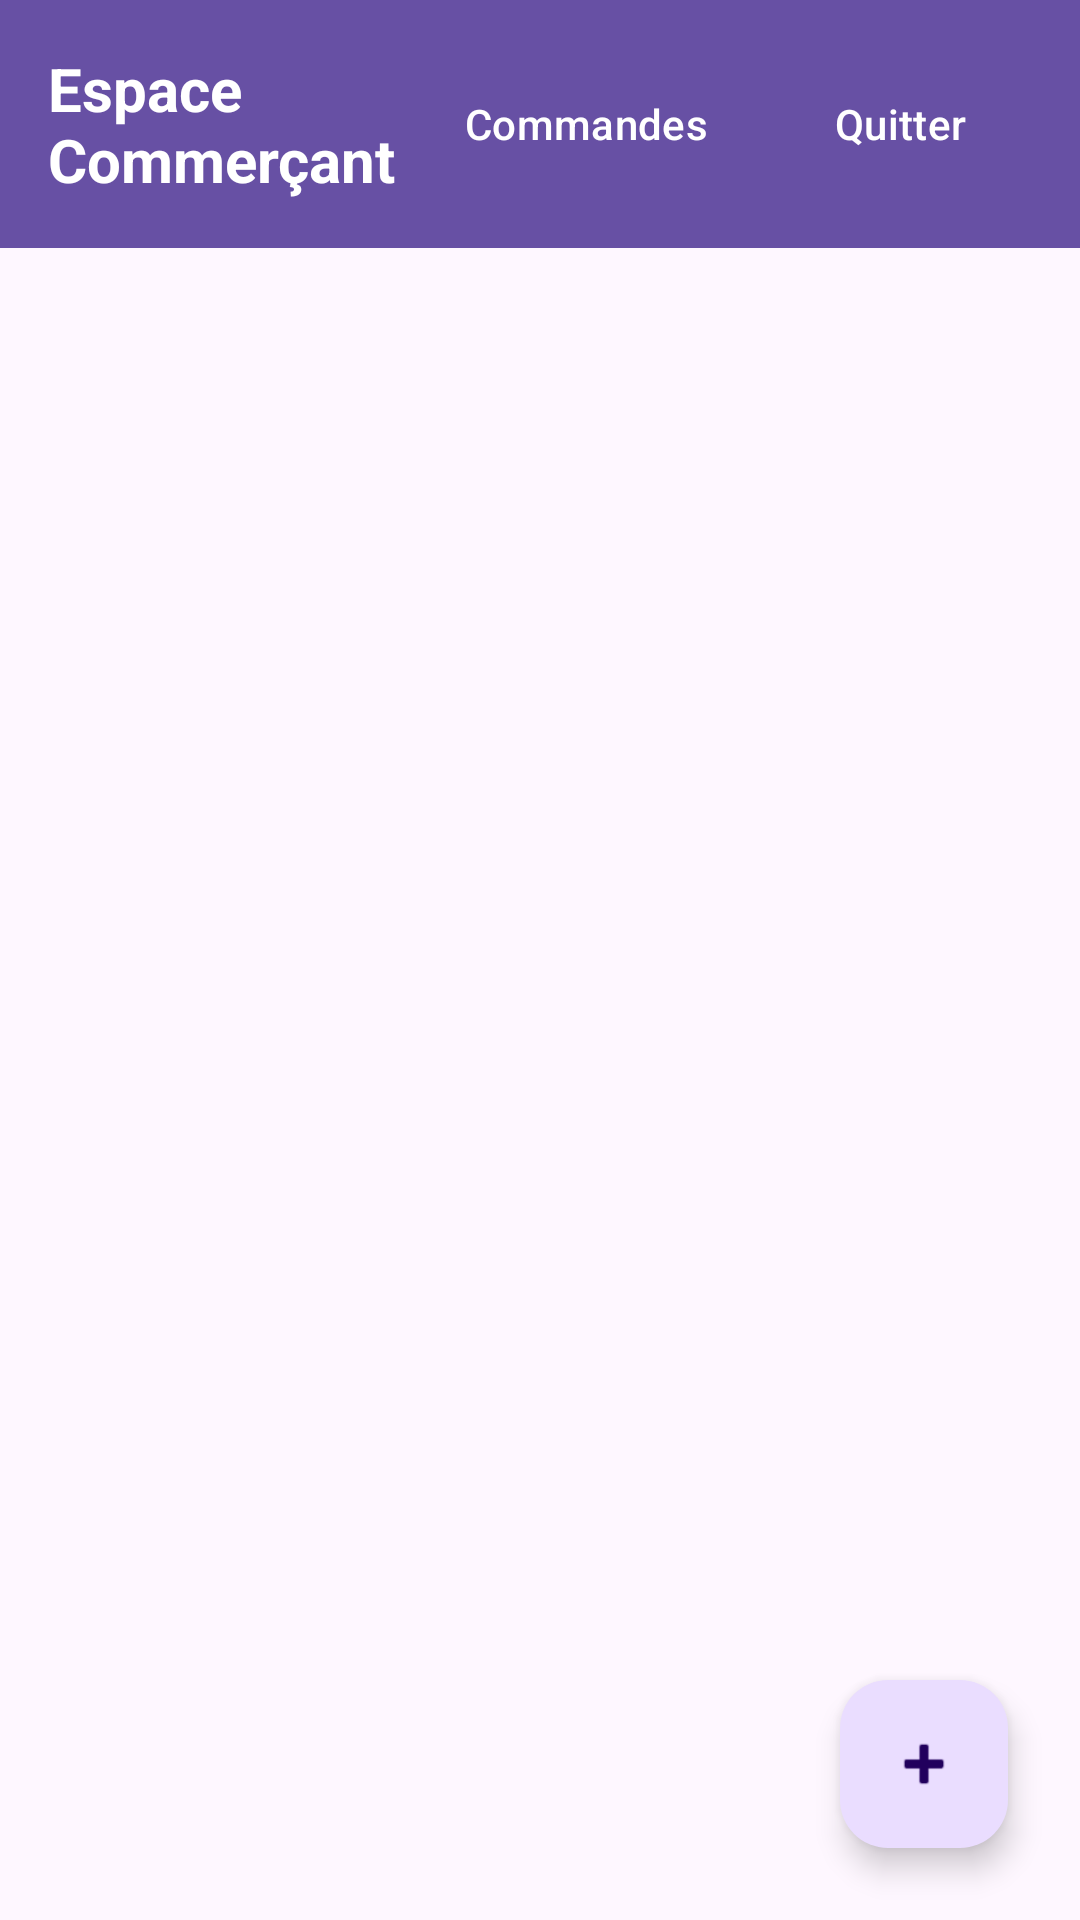

Icons on this 1080×1920 Android screen, each with the point to tap as (x=x, y=y):
Ajouter un panier: (x=924, y=1764)
